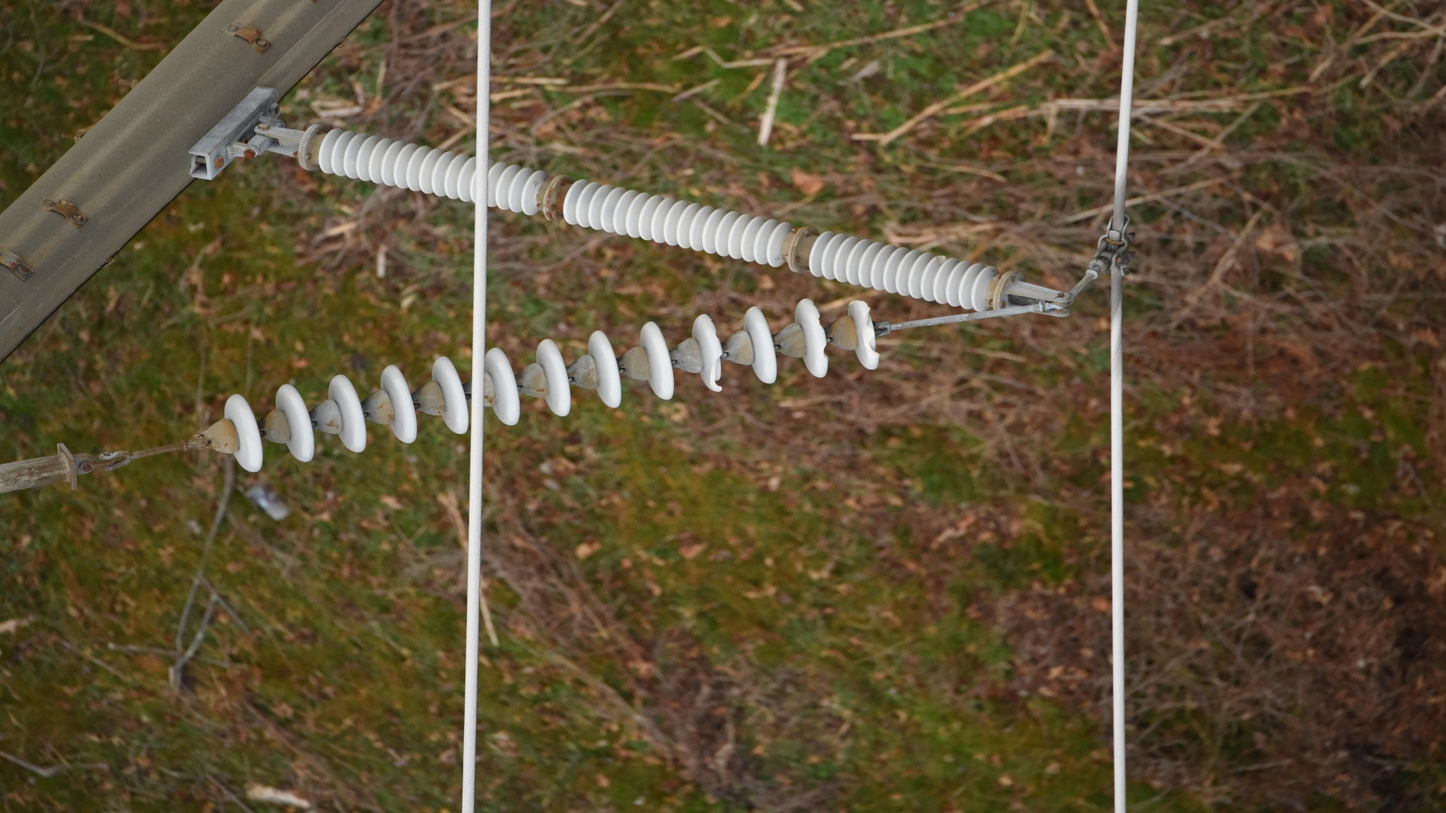insulator: (214, 295, 887, 480), (313, 123, 554, 221), (556, 175, 796, 273), (804, 226, 1005, 318)
insulator_breakage: (847, 297, 883, 360), (807, 297, 832, 362), (706, 346, 728, 394)
